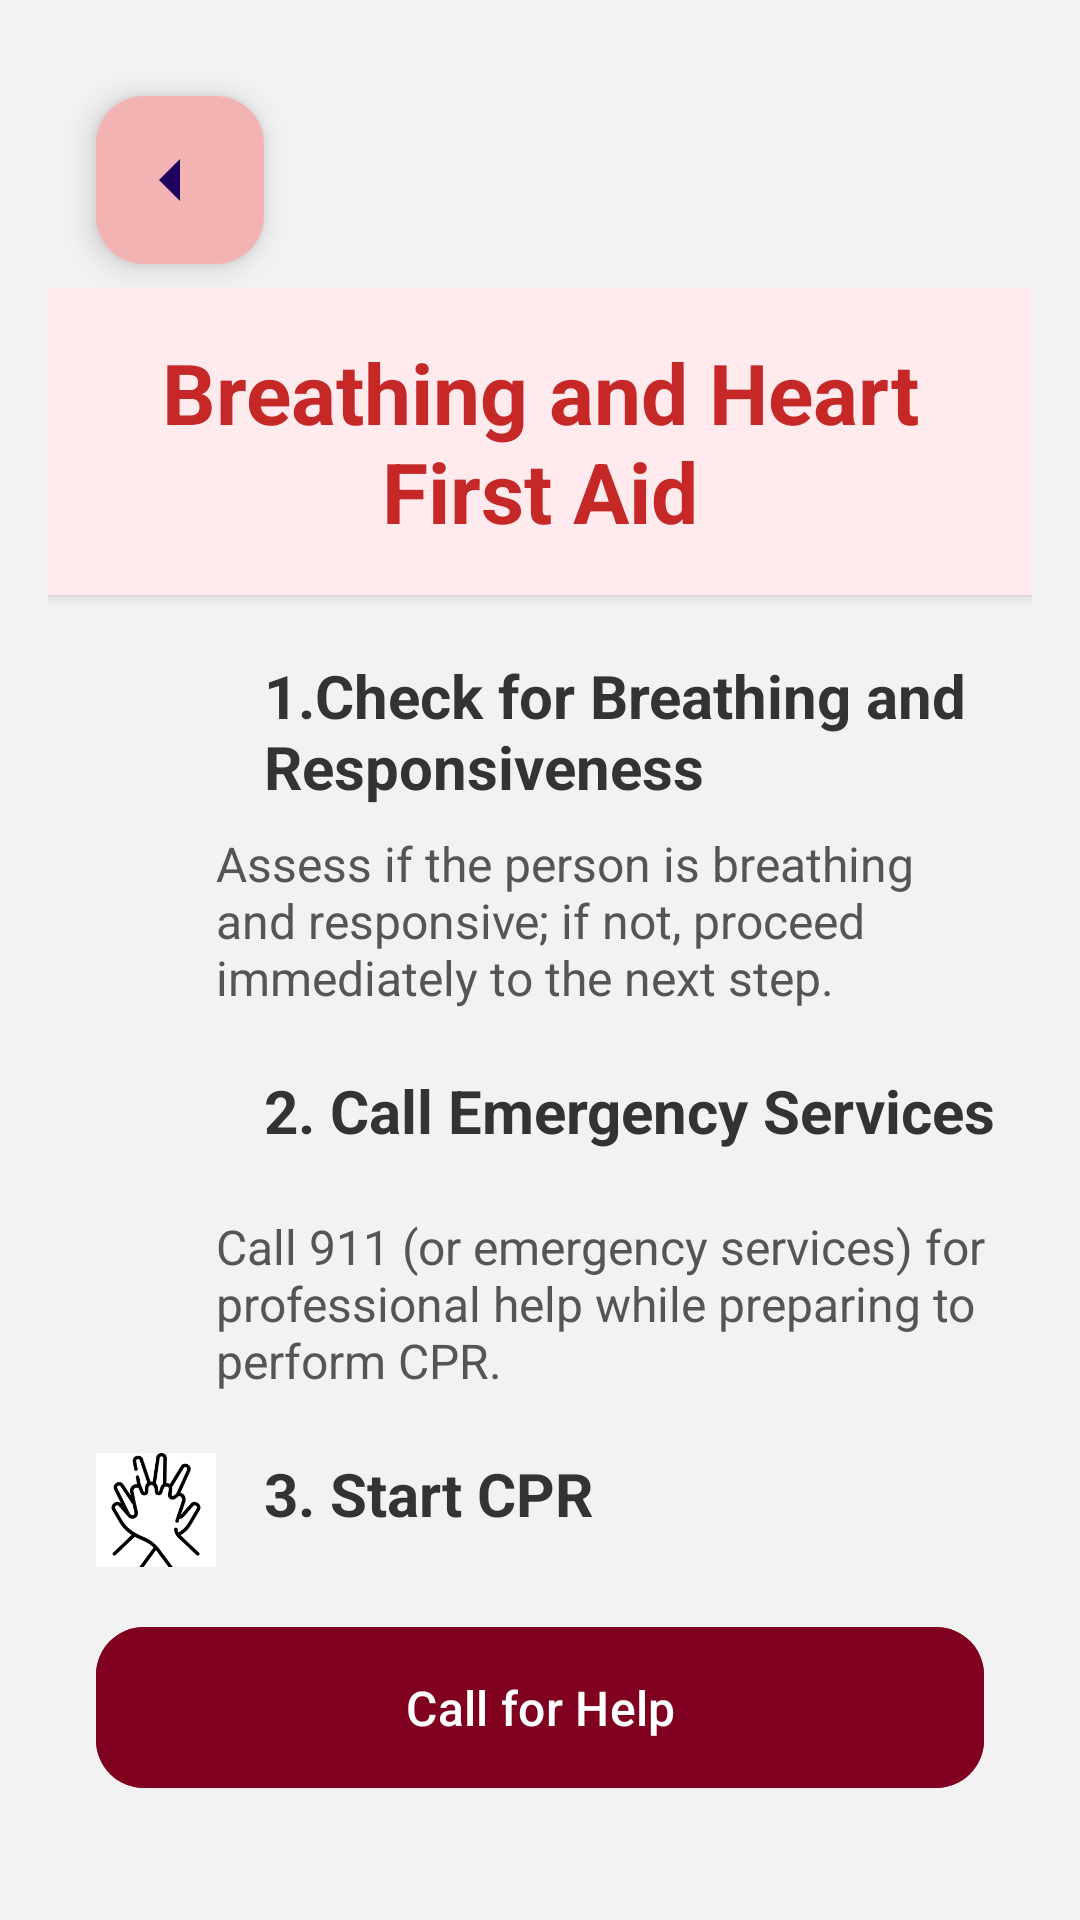

Icons on this 1080x1920 Android screen, each with its box as bbox=(x1, y1, x2, y2):
Back Button: bbox=(96, 96, 264, 264)
